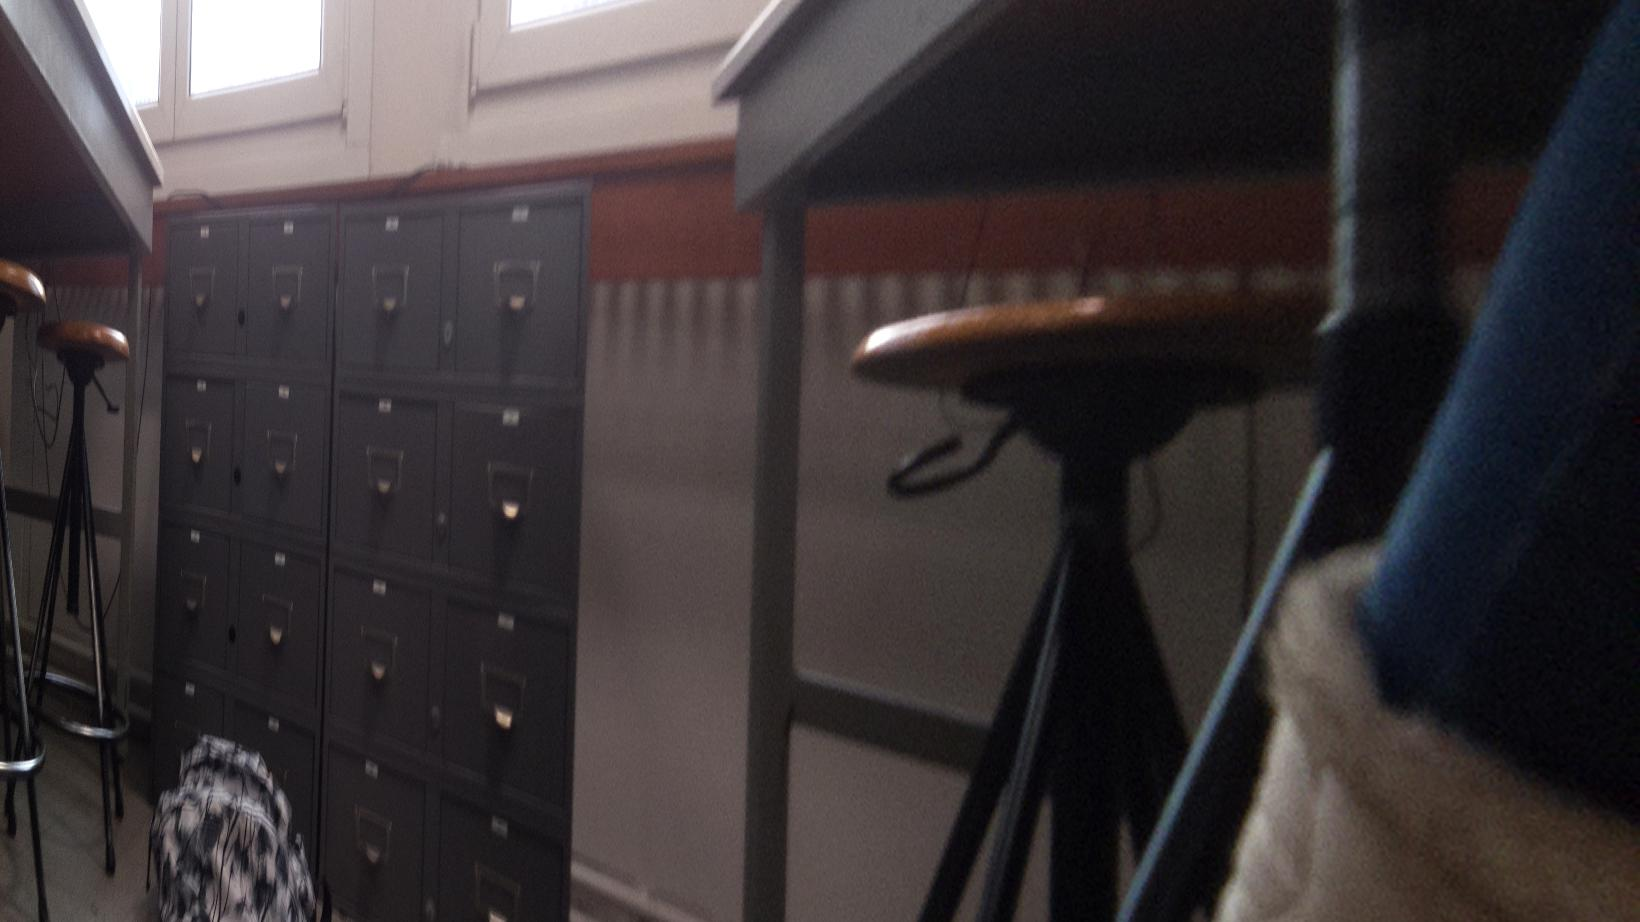big: (144, 729, 322, 922)
